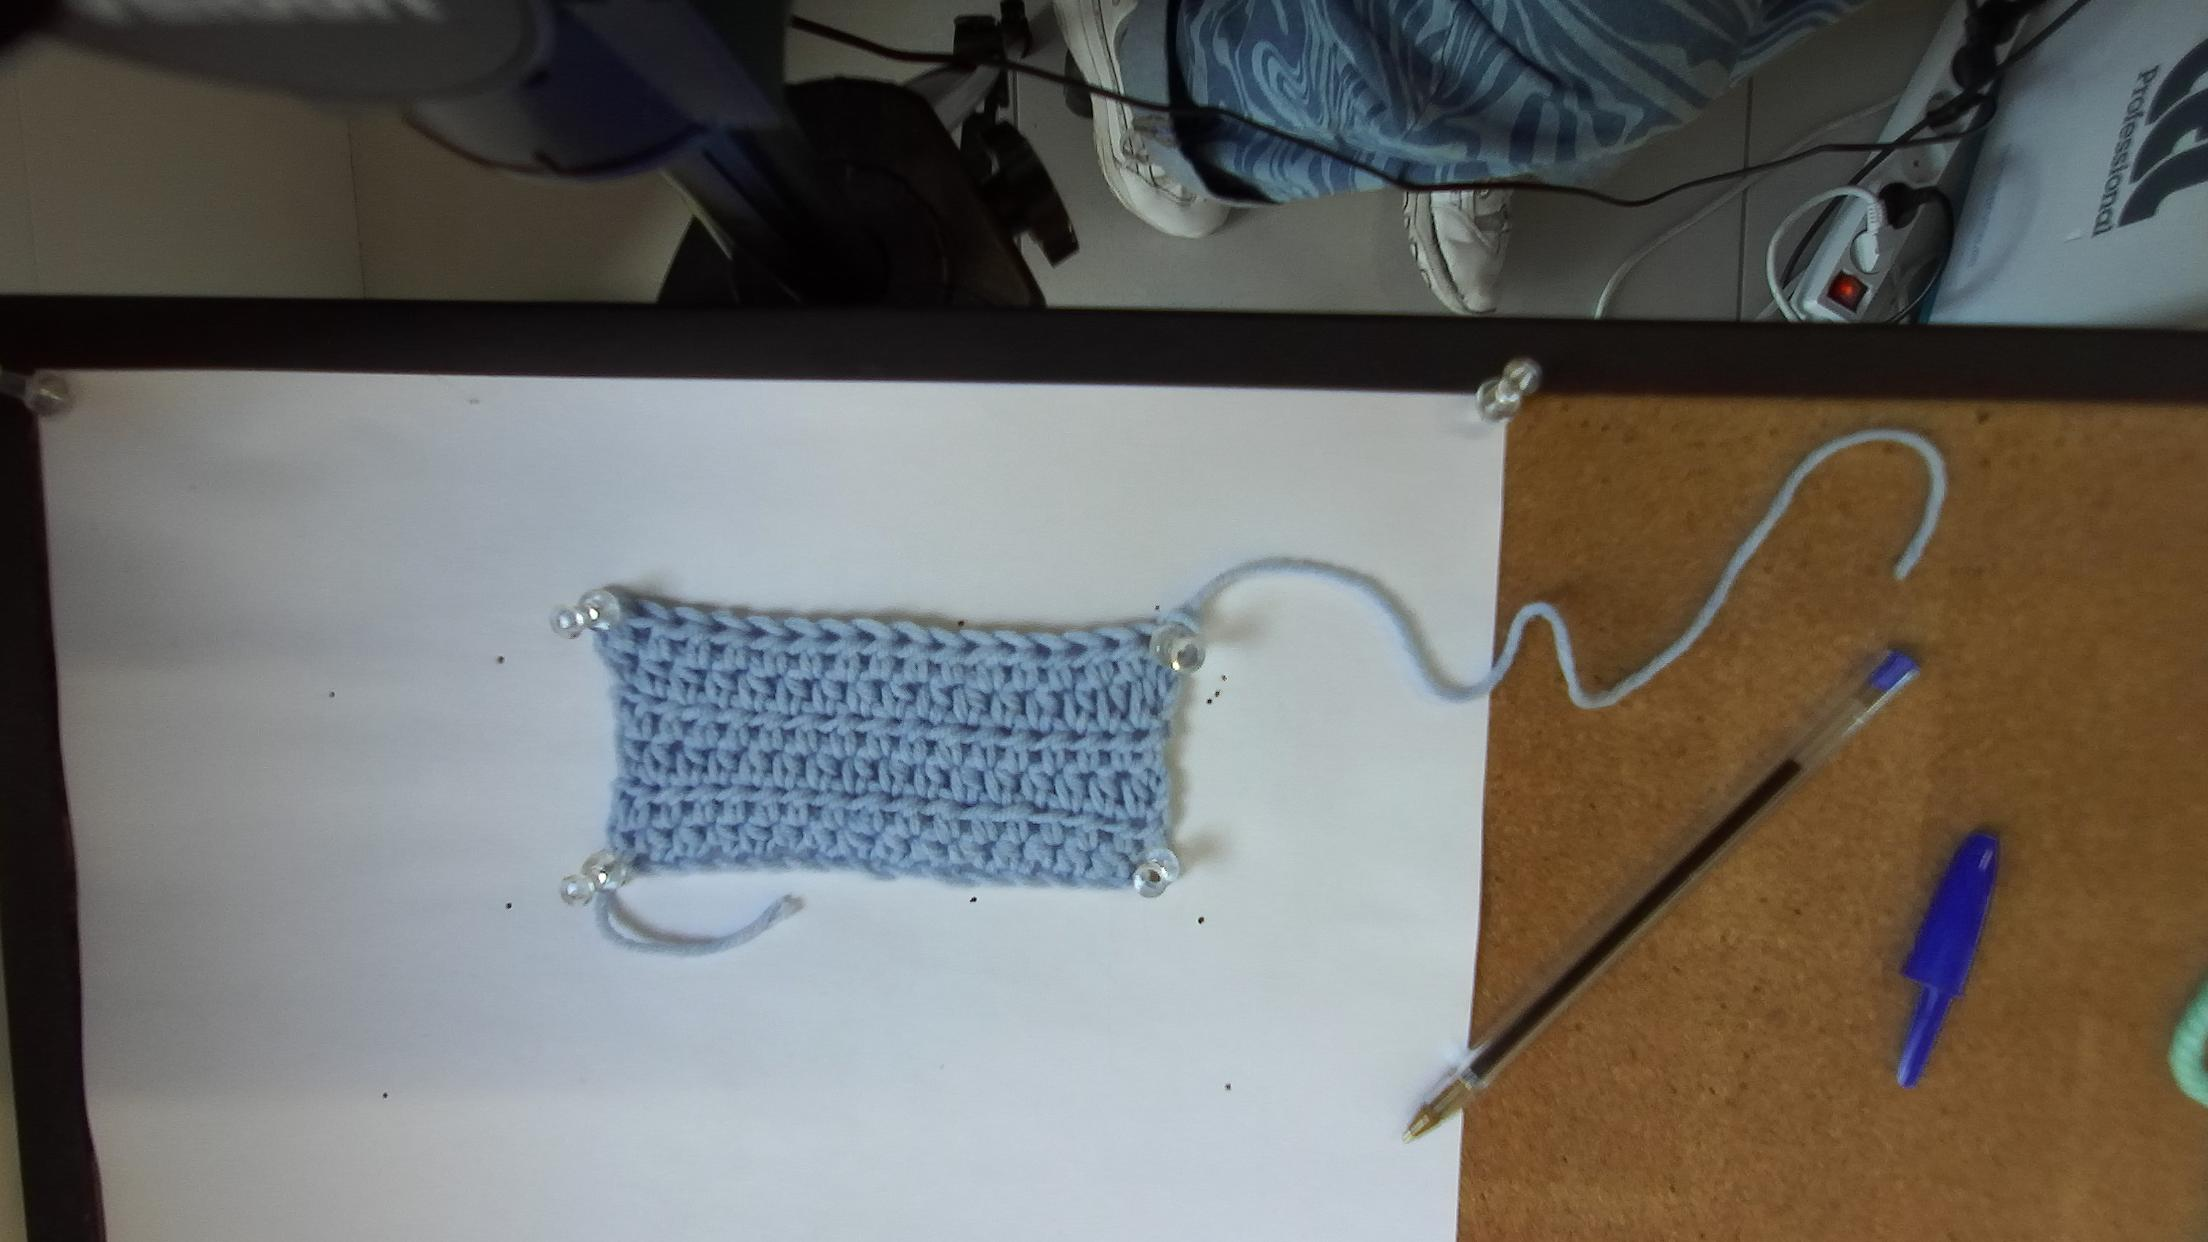hole: (924, 636, 947, 653), (746, 625, 769, 641), (1065, 642, 1086, 659), (780, 630, 805, 644), (815, 629, 841, 642), (958, 640, 979, 656), (707, 619, 729, 634), (1137, 633, 1154, 652), (893, 631, 912, 647), (1032, 644, 1051, 660), (670, 614, 690, 629), (855, 630, 875, 644), (633, 606, 655, 617), (997, 642, 1017, 654), (1103, 637, 1120, 651)
swatch: (583, 593, 1205, 898)
